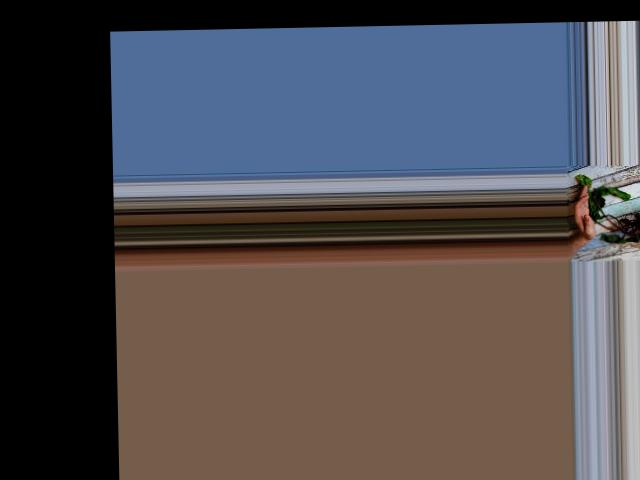beet: (576, 172, 640, 243)
